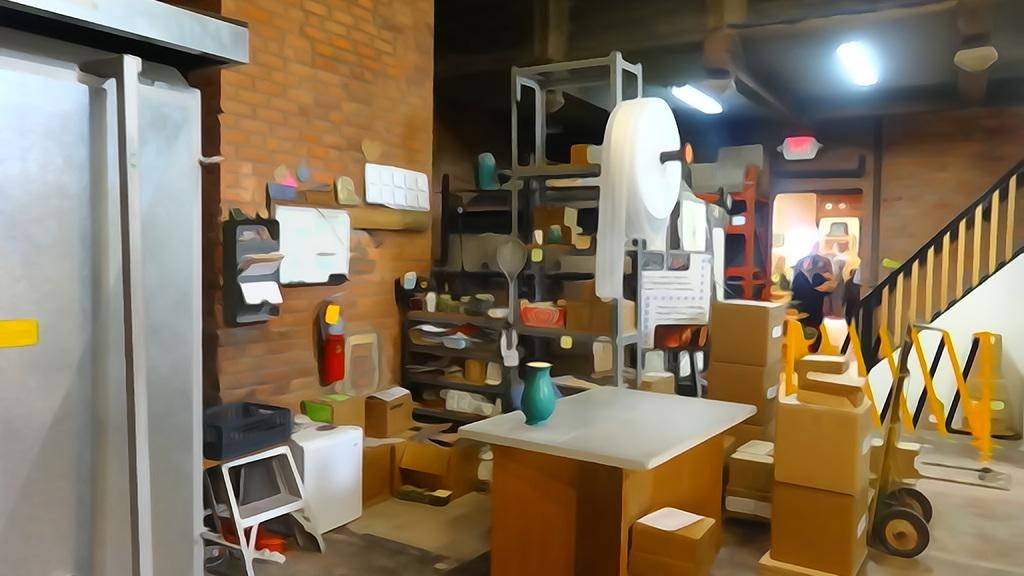Computer-monitor: (220, 443, 306, 526)
